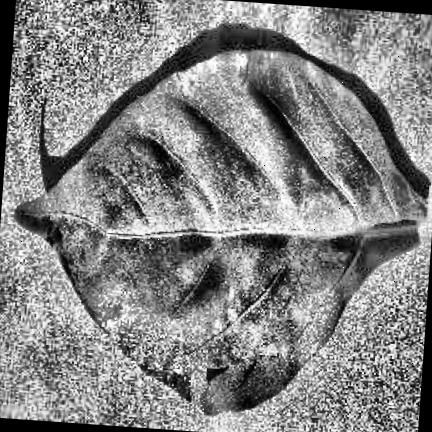leaf: (17, 47, 428, 413)
